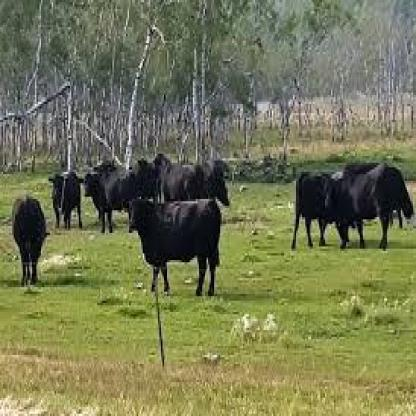cow: (128, 198, 220, 297), (322, 167, 392, 249), (292, 174, 350, 251), (12, 194, 49, 285), (51, 174, 84, 228)
